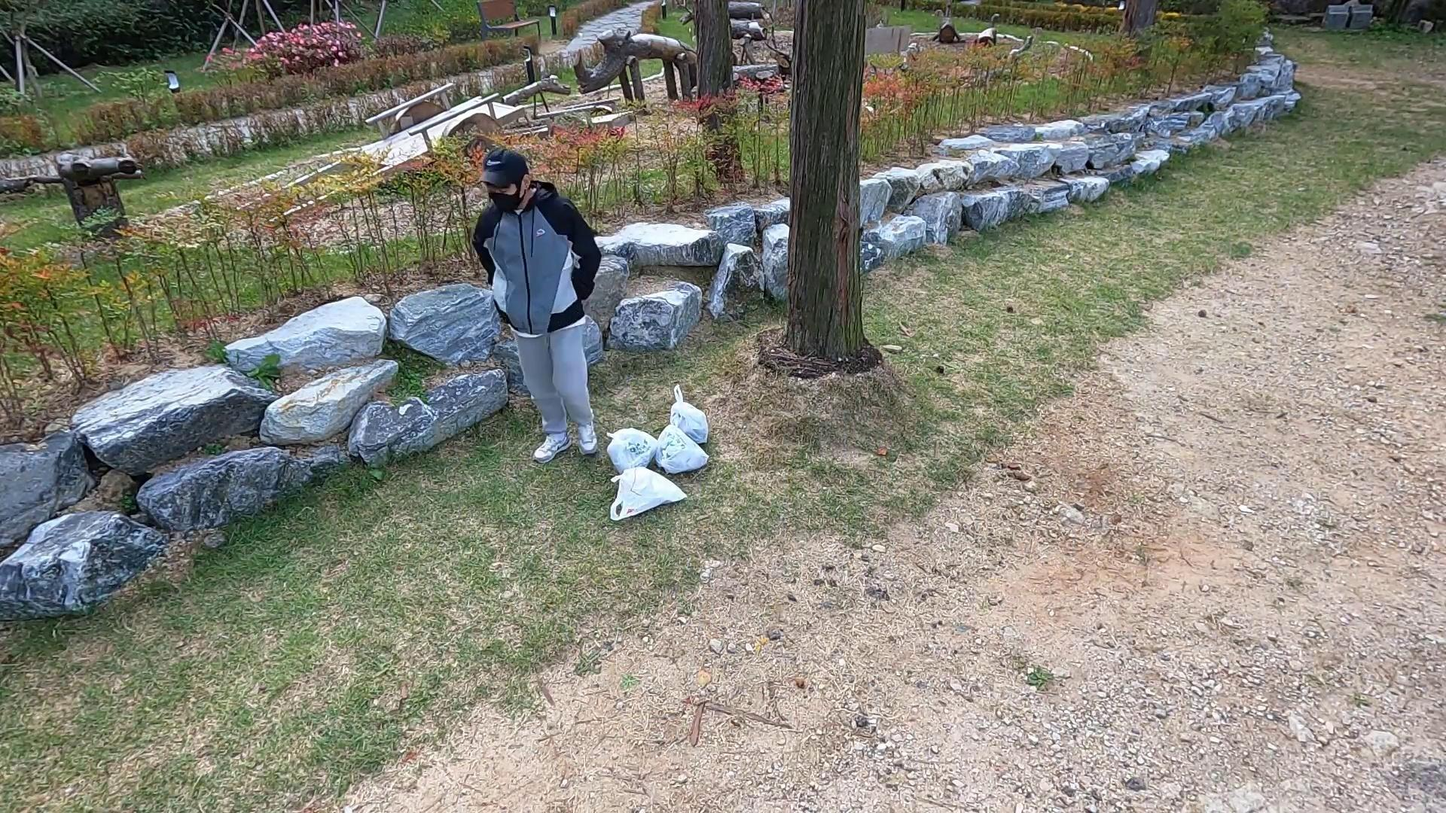person: (472, 146, 602, 465)
trash: (610, 467, 686, 522), (669, 383, 710, 447), (657, 424, 709, 473), (607, 428, 658, 476)
